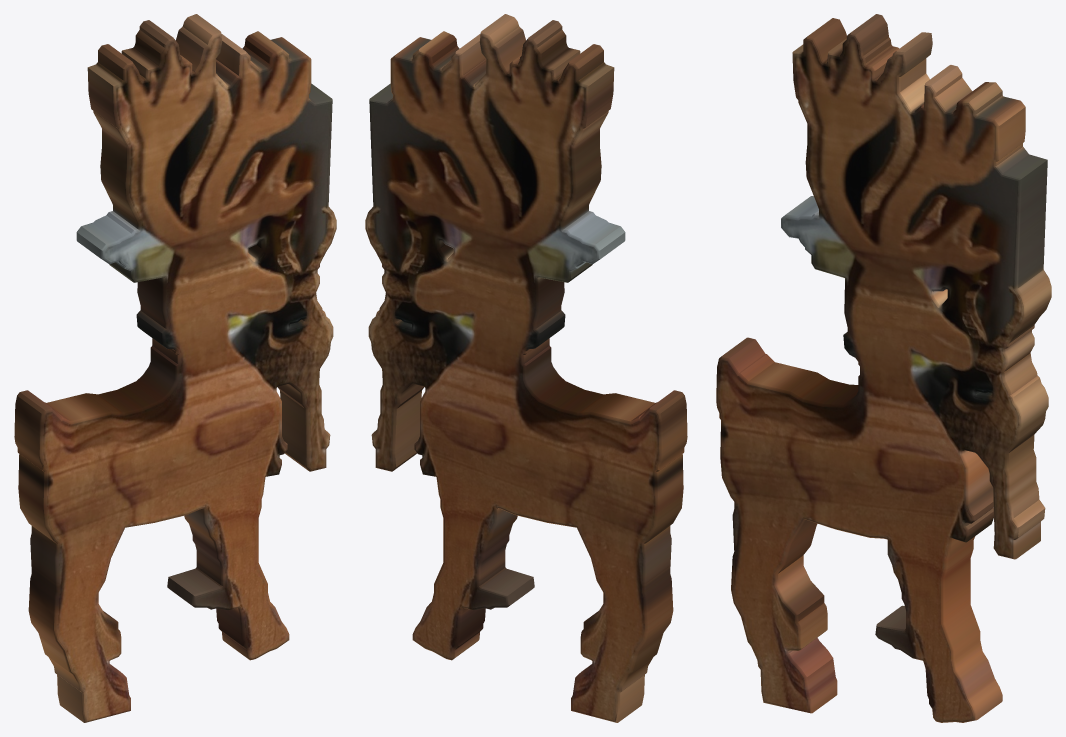
Rendered from deer-figurines.glb.
3 views of the same model, side by side, from view 1: azimuth 30°, elevation 25°; view 2: azimuth 150°, elevation 25°; view 3: azimuth 330°, elevation 25° (orthographic). The views are drawn at different scales.
Parts seen in each view (by area): view 1: Standing deer; view 2: Standing deer; view 3: Standing deer.
Boxes of the visible parts, left/top/right/bottom form: Standing deer: left=14, top=14, right=336, bottom=722; Standing deer: left=365, top=14, right=687, bottom=722; Standing deer: left=716, top=14, right=1051, bottom=722.
Bounding box in the file's own units: 0.1377 × 0.2934 × 0.0214.
1 material, 1 textured.
